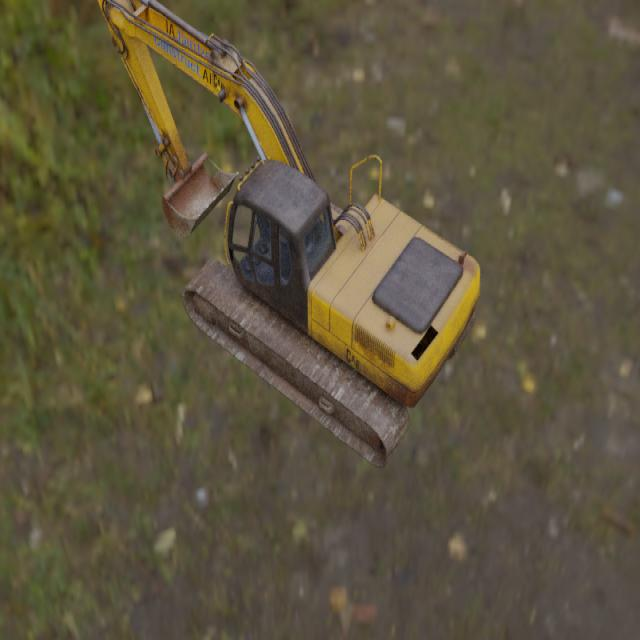excavator: (97, 0, 480, 469)
